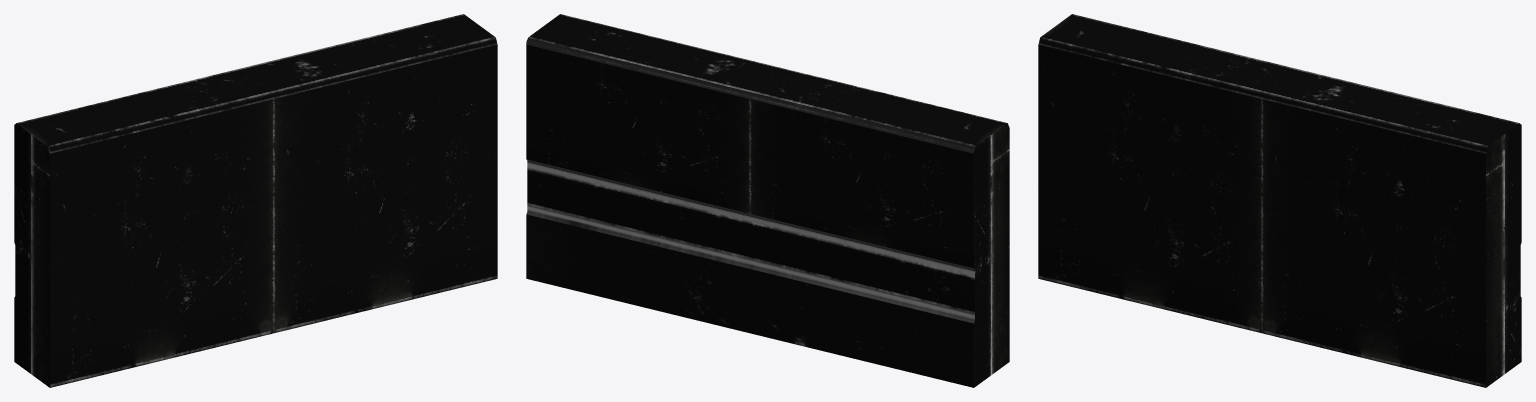
File: SM_Parapet_B.FBX
3 views of the same model, side by side, from view 1: azimuth 30°, elevation 25°; view 2: azimuth 150°, elevation 25°; view 3: azimuth 330°, elevation 25° (orthographic).
Visible parts, largest first — view 1: SM_Parapet_B; view 2: SM_Parapet_B; view 3: SM_Parapet_B.
Part boxes in pixels (bbox=[...]): SM_Parapet_B: bbox=[14, 14, 497, 387]; SM_Parapet_B: bbox=[526, 14, 1009, 387]; SM_Parapet_B: bbox=[1038, 14, 1521, 387].
Size of the model in its own units: 400 by 205 by 55.
1 material, 1 textured.
